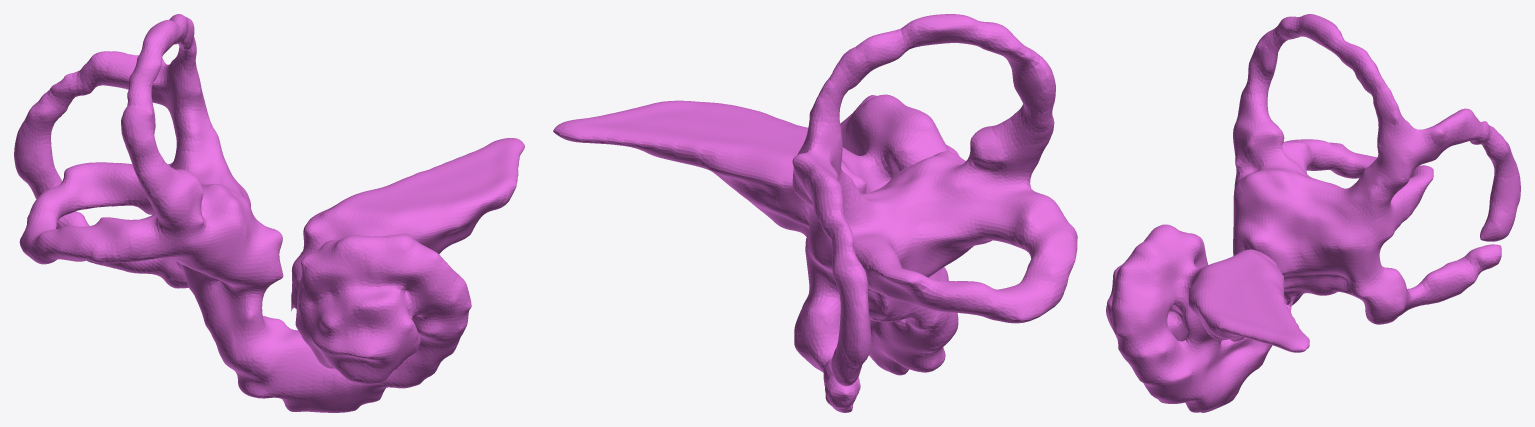
The model's file is InnerEar.glb.
3 views of the same model, side by side, from view 1: azimuth 30°, elevation 25°; view 2: azimuth 150°, elevation 25°; view 3: azimuth 270°, elevation 25° (orthographic). The views are drawn at different scales.
Parts seen in each view (by area): view 1: InnerEar; view 2: InnerEar; view 3: InnerEar.
Boxes of the visible parts, x1,y1,x2,y2 form: InnerEar: (14, 14, 524, 412); InnerEar: (553, 14, 1077, 412); InnerEar: (1106, 14, 1520, 412).
Size of the model in its own units: 17.93 by 13.7 by 15.19.
